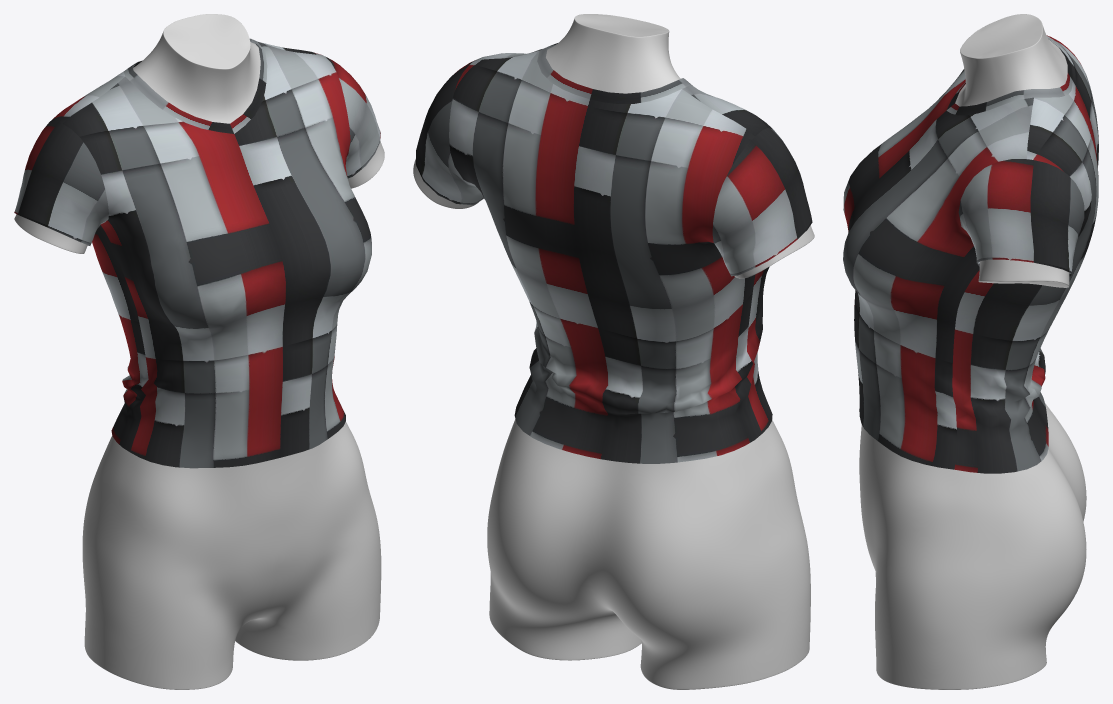
Rendered from dummy5.fbx.
3 renders of one model, left to right at view 1: azimuth 30°, elevation 25°; view 2: azimuth 150°, elevation 25°; view 3: azimuth 270°, elevation 25°, orthographic. The views are drawn at different scales.
Visible parts, largest first — view 1: 60, Obj_Avatar_Shape, 62, 21, 31, Pattern2D_3805017, Pattern2D_3805018, 63; view 2: 21, Obj_Avatar_Shape, 63, 30, 60, 62, Pattern2D_3805002; view 3: Obj_Avatar_Shape, 60, 21, 31, 30, Pattern2D_3805018, Pattern2D_3805002.
Part boxes in pixels (x1,y1,x2,y2): 60: [62, 42, 371, 468]; Obj_Avatar_Shape: [14, 14, 384, 689]; 62: [18, 122, 108, 245]; 21: [50, 40, 325, 451]; 31: [325, 56, 380, 178]; Pattern2D_3805017: [125, 71, 233, 133]; Pattern2D_3805018: [230, 39, 267, 133]; 63: [14, 121, 58, 214]; 21: [449, 50, 762, 463]; Obj_Avatar_Shape: [413, 14, 814, 689]; 63: [712, 141, 797, 276]; 30: [416, 65, 483, 205]; 60: [474, 47, 772, 433]; 62: [751, 128, 812, 239]; Pattern2D_3805002: [537, 47, 681, 103]; Obj_Avatar_Shape: [859, 14, 1086, 689]; 60: [843, 69, 1033, 469]; 21: [952, 35, 1098, 473]; 31: [958, 159, 1033, 266]; 30: [1030, 160, 1084, 276]; Pattern2D_3805018: [946, 89, 1033, 115]; Pattern2D_3805002: [1033, 40, 1072, 97].
Bounding box in the file's own units: 0.6039 × 0.9764 × 0.3705.
Materials: 2 (1 with a texture image).
